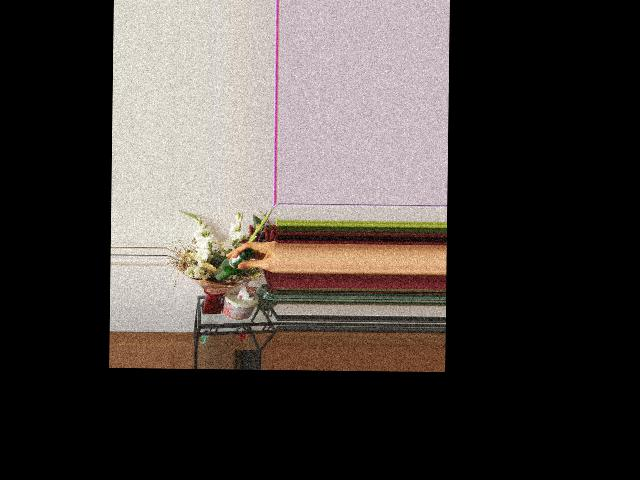beer: (214, 247, 254, 281)
